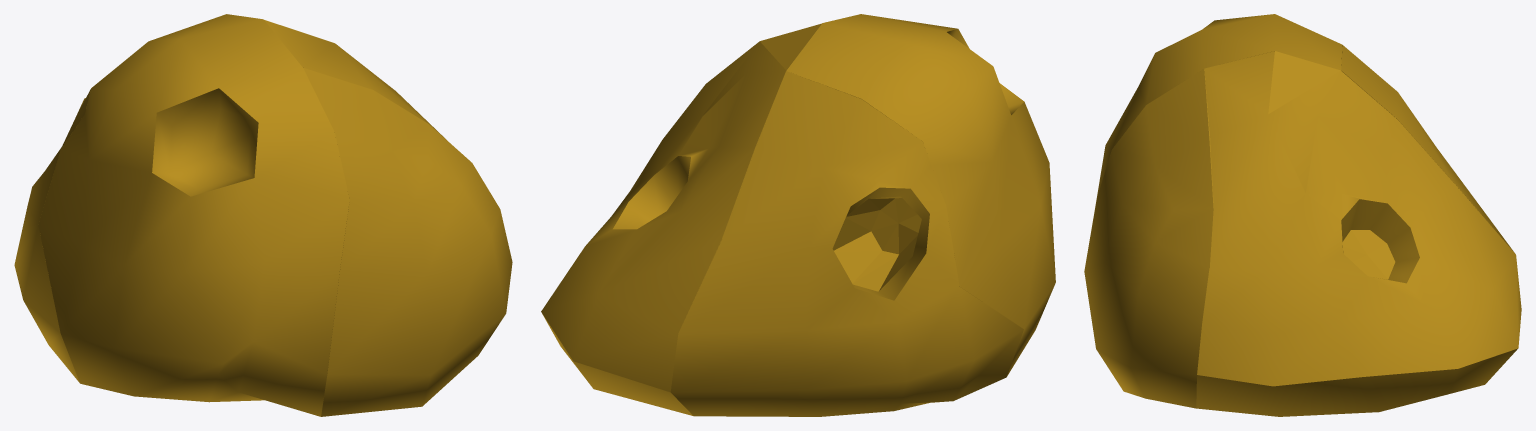
File: cheese_breakable.FBX
3 renders of one model, left to right at view 1: azimuth 30°, elevation 25°; view 2: azimuth 150°, elevation 25°; view 3: azimuth 270°, elevation 25°, orthographic. The views are drawn at different scales.
Visible parts, largest first — view 1: Object023, q, qq, Object017; view 2: qq, Object023, Object017; view 3: Object017, q, Object023, qq.
Boxes of the visible parts, bbox=[...] form: Object023: bbox=[38, 14, 349, 416]; q: bbox=[303, 68, 512, 416]; qq: bbox=[14, 89, 90, 382]; Object017: bbox=[264, 20, 446, 139]; qq: bbox=[670, 71, 1023, 416]; Object023: bbox=[786, 14, 1055, 376]; Object017: bbox=[541, 23, 821, 415]; Object017: bbox=[1196, 51, 1521, 416]; q: bbox=[1084, 69, 1213, 408]; Object023: bbox=[1088, 14, 1342, 249]; qq: bbox=[1341, 45, 1514, 252].
Size of the model in its own units: 44.38 by 34.93 by 44.42.
